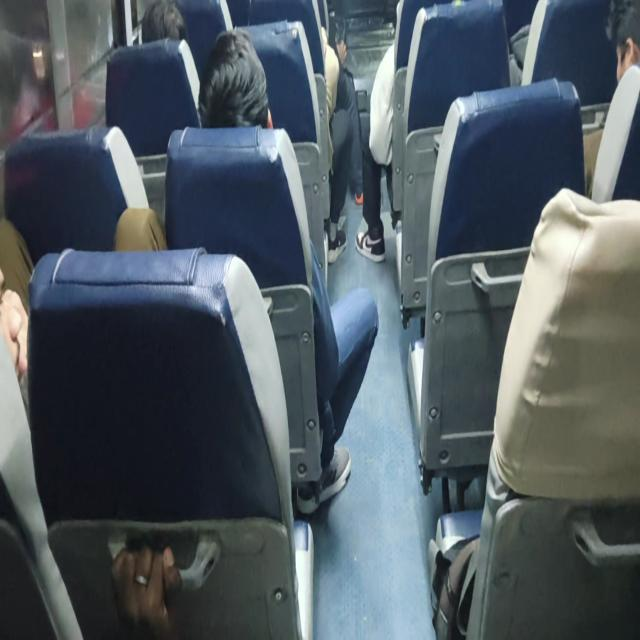person: (197, 28, 287, 138), (586, 2, 640, 98), (138, 0, 188, 59)
